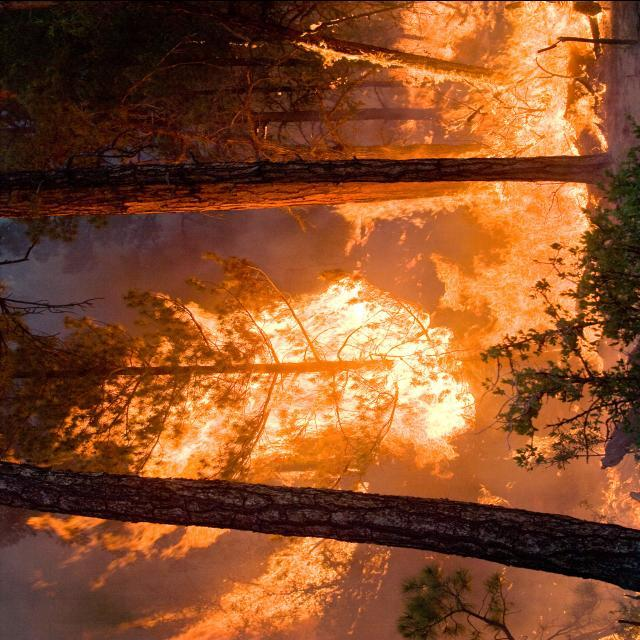Fire: (23, 3, 623, 635)
